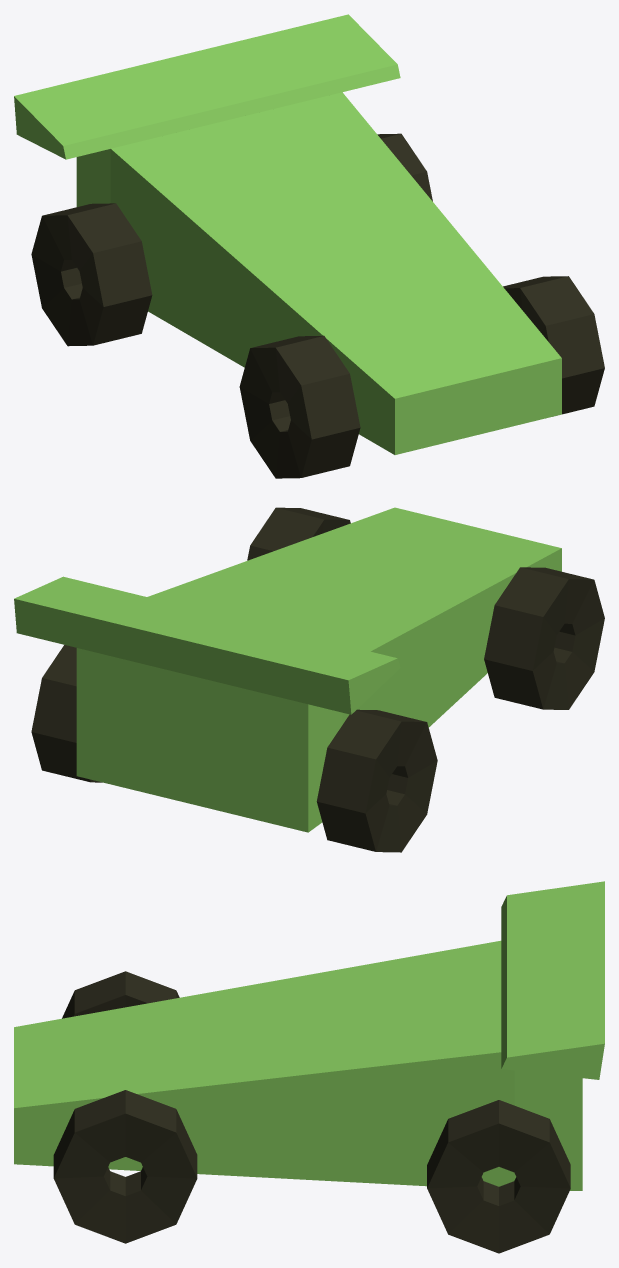
File: Car.fbx
3 renders of one model, top to bottom at view 1: azimuth 30°, elevation 25°; view 2: azimuth 150°, elevation 25°; view 3: azimuth 270°, elevation 25°, orthographic.
Parts seen in each view (by area): view 1: Car, Wheel front, Wheel back; view 2: Car, Wheel back, Wheel front; view 3: Car, Wheel front, Wheel back.
Boxes of the visible parts, <box> form: Car: <box>14,14,561,454</box>; Wheel front: <box>239,276,604,478</box>; Wheel back: <box>31,133,432,346</box>; Car: <box>14,507,561,832</box>; Wheel back: <box>31,645,437,852</box>; Wheel front: <box>247,507,604,709</box>; Car: <box>14,881,604,1190</box>; Wheel front: <box>53,971,197,1243</box>; Wheel back: <box>427,1100,570,1253</box>.
Size of the model in its own units: 112 by 67.49 by 172.
